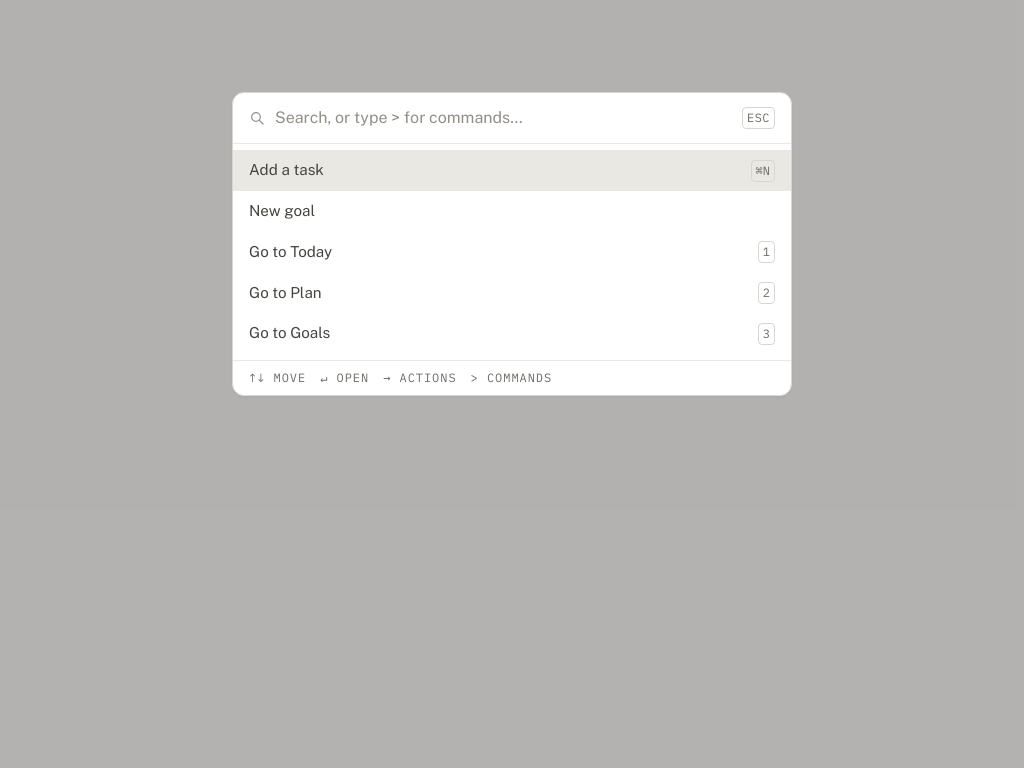
the command palette › keeps the chosen object on screen while its verbs show
Type "problems" into the dropdown.
click(504, 118); type("problems")  # box [275,106,732,130]
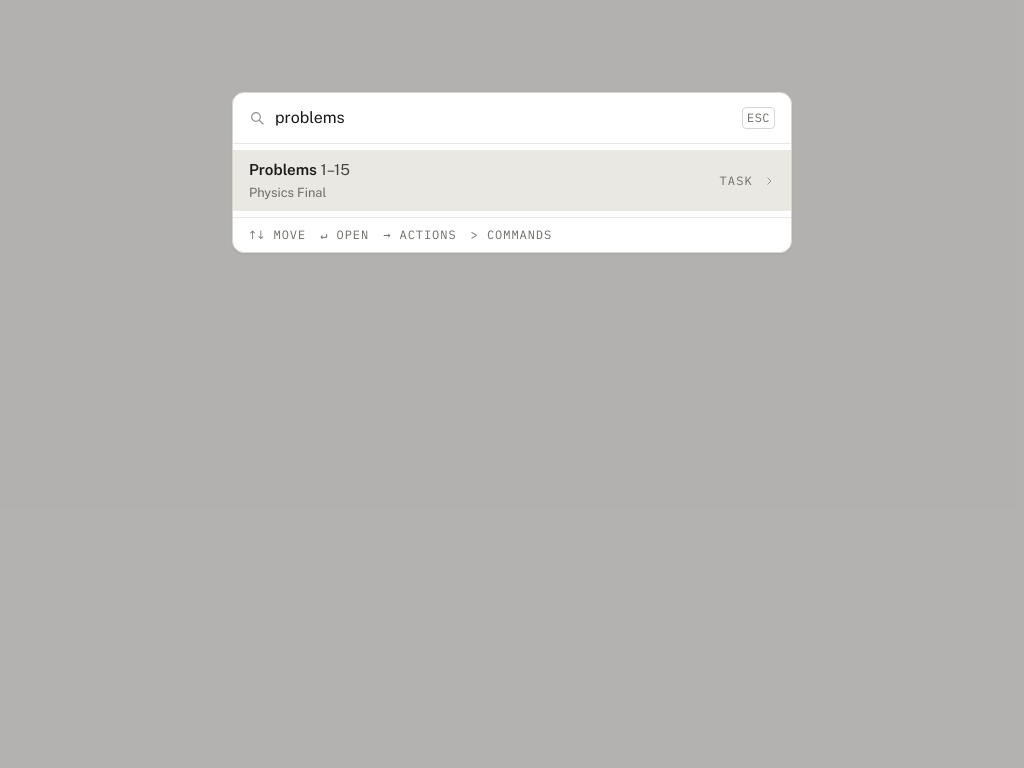
Press Arrowright
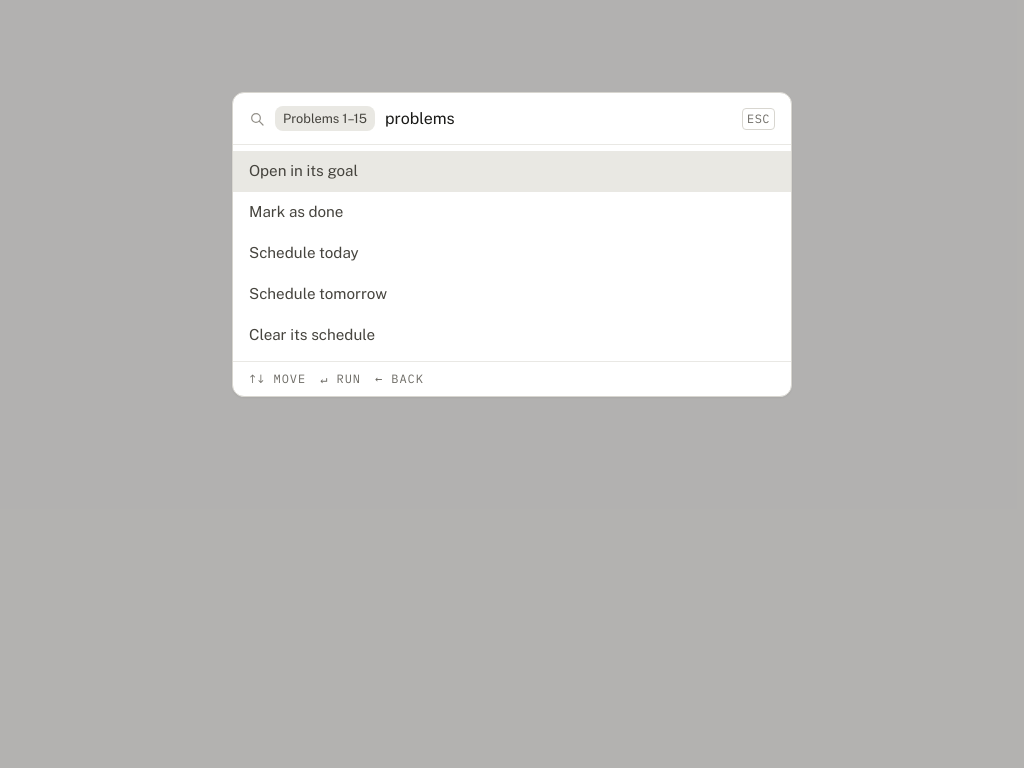
Expected: the text "Problems 1–15" is shown, [275,106,375,131]
